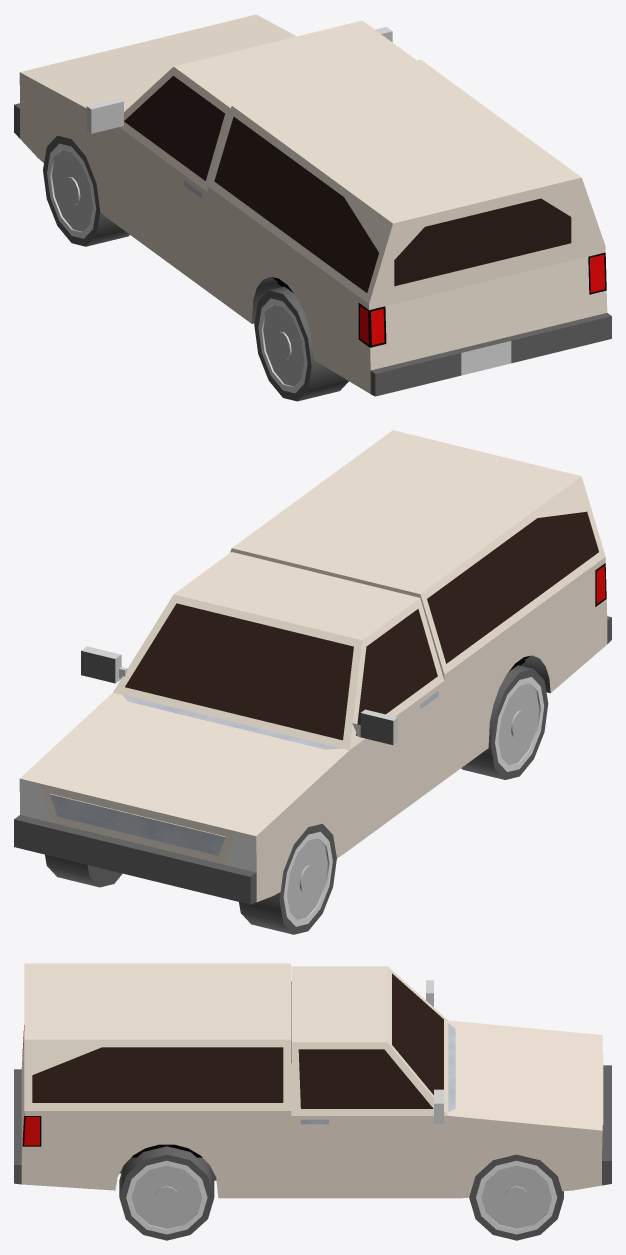
The model's file is car06.glb.
3 renders of one model, top to bottom at view 1: azimuth 30°, elevation 25°; view 2: azimuth 150°, elevation 25°; view 3: azimuth 270°, elevation 25°, orthographic. The views are drawn at different scales.
Parts seen in each view (by area): view 1: Geom3D (×12), Geom3D_Simple small pickup truck; view 2: Geom3D (×14); view 3: Geom3D (×12), Geom3D_Simple small pickup truck.
Boxes of the visible parts, x1=… form: Geom3D (×12): x1=14, y1=14, x2=611, y2=401; Geom3D_Simple small pickup truck: x1=102, y1=214, x2=606, y2=347; Geom3D (×14): x1=14, y1=430, x2=611, y2=934; Geom3D (×12): x1=14, y1=963, x2=611, y2=1240; Geom3D_Simple small pickup truck: x1=22, y1=982, x2=291, y2=1157.
Size of the model in its own units: 2.41 by 1.74 by 4.92.
10 materials, 1 textured.
